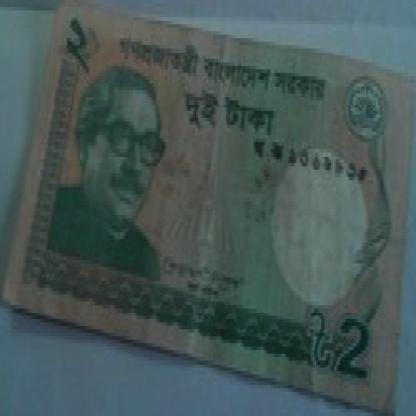two taka: (181, 76, 283, 160), (328, 309, 376, 402), (65, 0, 98, 87)
